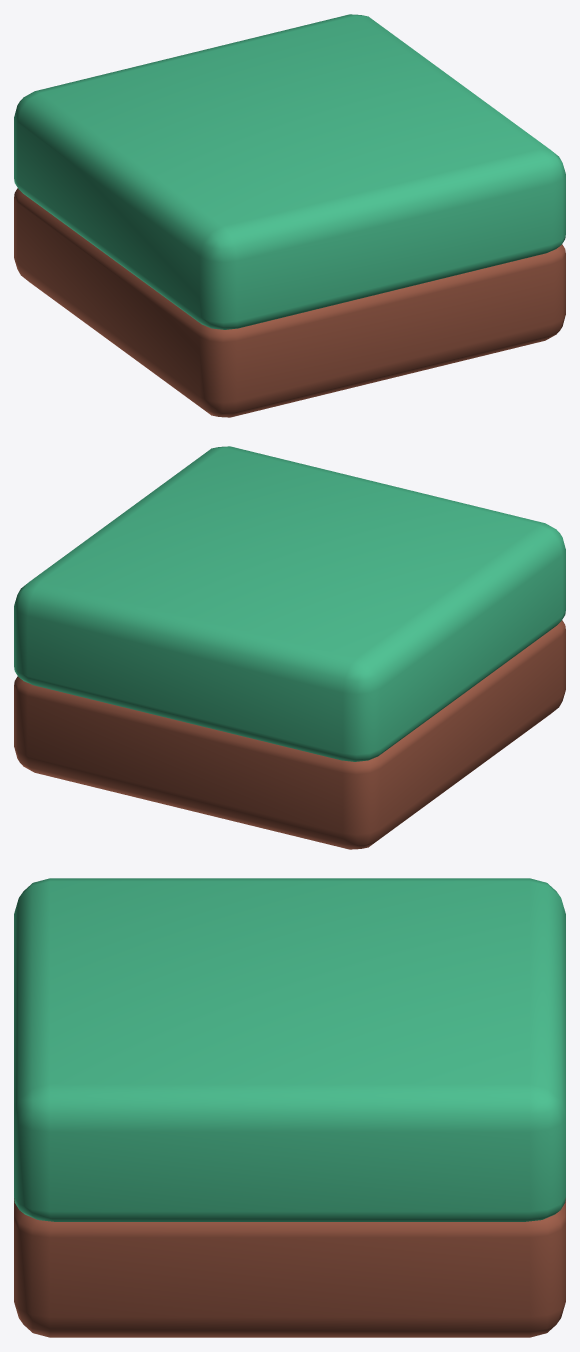
File: tileLow_forest-col.glb
3 views of the same model, one above another, from view 1: azimuth 30°, elevation 25°; view 2: azimuth 150°, elevation 25°; view 3: azimuth 270°, elevation 25° (orthographic). The views are drawn at different scales.
Visible parts, largest first — view 1: tileLow_forest-col; view 2: tileLow_forest-col; view 3: tileLow_forest-col.
Part boxes in pixels (x1,y1,x2,y2): tileLow_forest-col: (14, 14, 565, 417); tileLow_forest-col: (14, 446, 565, 849); tileLow_forest-col: (14, 878, 565, 1337).
Bounding box in the file's own units: 2 × 1 × 2.
